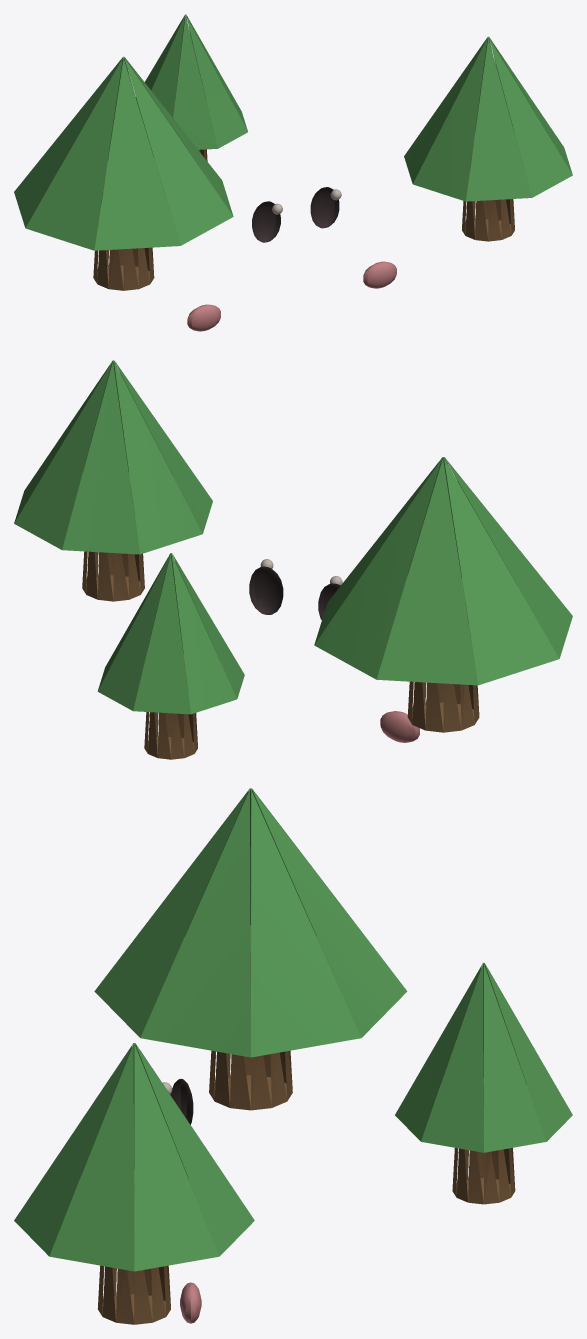
The model's file is p4ded25e2.glb.
3 views of the same model, one above another, from view 1: azimuth 30°, elevation 25°; view 2: azimuth 150°, elevation 25°; view 3: azimuth 270°, elevation 25° (orthographic). The views are drawn at different scales.
Visible parts, largest first — view 1: pet_p4ded25e2; view 2: pet_p4ded25e2; view 3: pet_p4ded25e2.
Part boxes in pixels (x1,y1,x2,y2): pet_p4ded25e2: (14,14,572,331); pet_p4ded25e2: (14,360,572,759); pet_p4ded25e2: (14,788,572,1324).
Size of the model in its own units: 0.6778 by 0.3544 by 0.4799.
